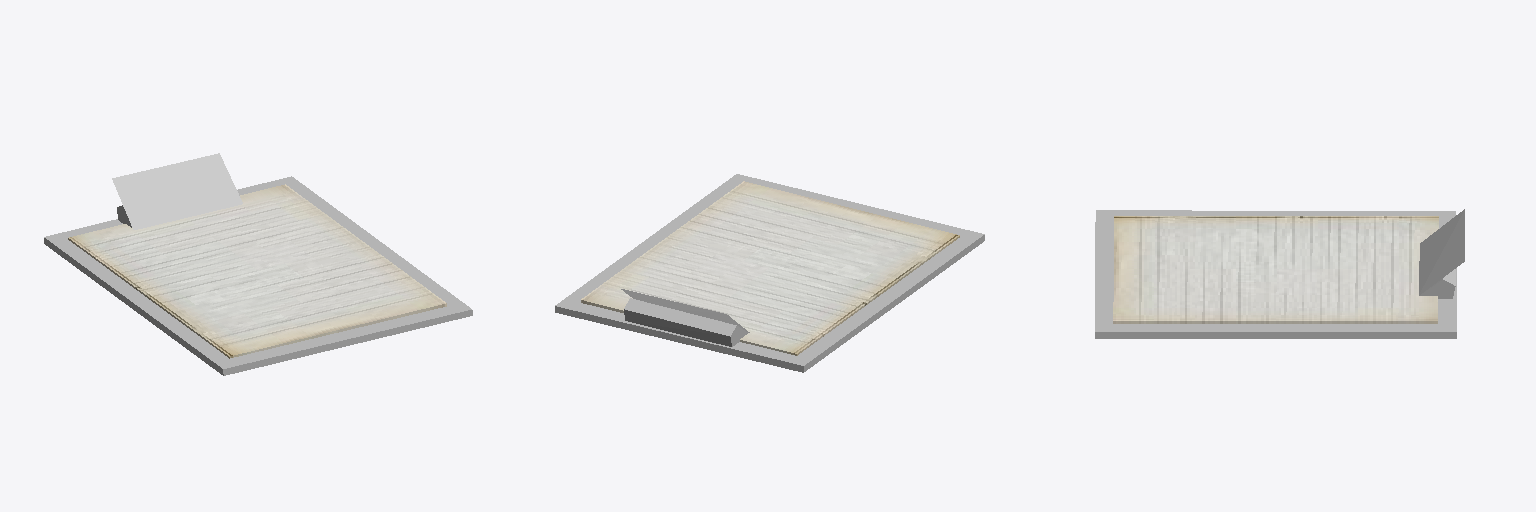
3 renders of one model, left to right at view 1: azimuth 30°, elevation 25°; view 2: azimuth 150°, elevation 25°; view 3: azimuth 270°, elevation 25°, orthographic.
Visible parts, largest first — view 1: paper, clipboard; view 2: paper, clipboard; view 3: paper, clipboard.
Boxes of the visible parts, box(x1,y1,x2,y2) form: paper: box(68, 184, 446, 358); clipboard: box(44, 153, 472, 375); paper: box(581, 181, 959, 355); clipboard: box(555, 174, 984, 372); paper: box(1113, 216, 1438, 323); clipboard: box(1095, 209, 1464, 338).
Bounding box in the file's own units: 18.8 × 3.2 × 24.17.
2 materials, 1 textured.